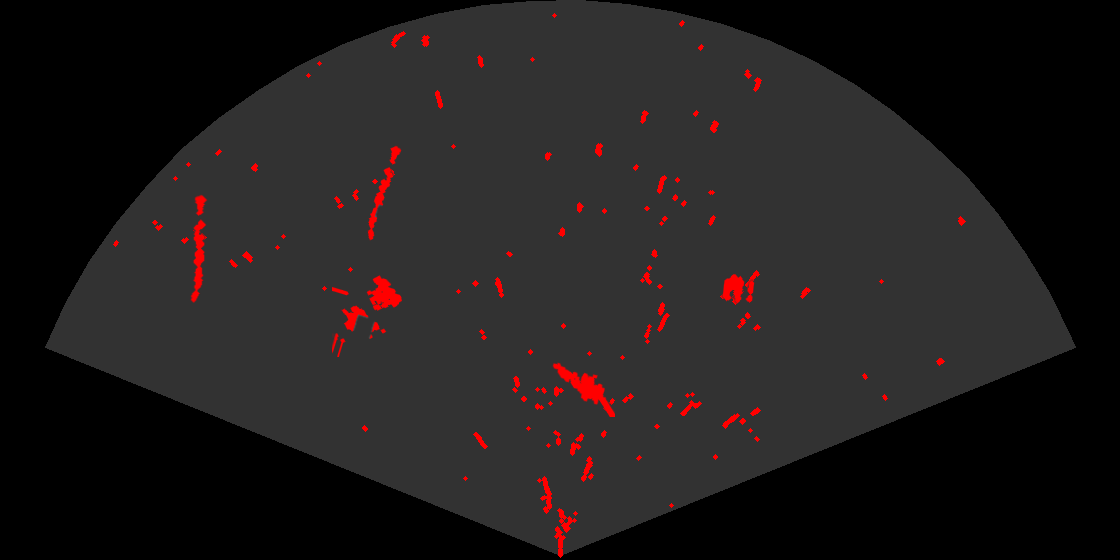ball: (721, 273, 756, 305)
cage: (332, 274, 404, 357)
chain: (366, 143, 403, 242), (189, 194, 209, 304)
frogman: (551, 361, 615, 417)
